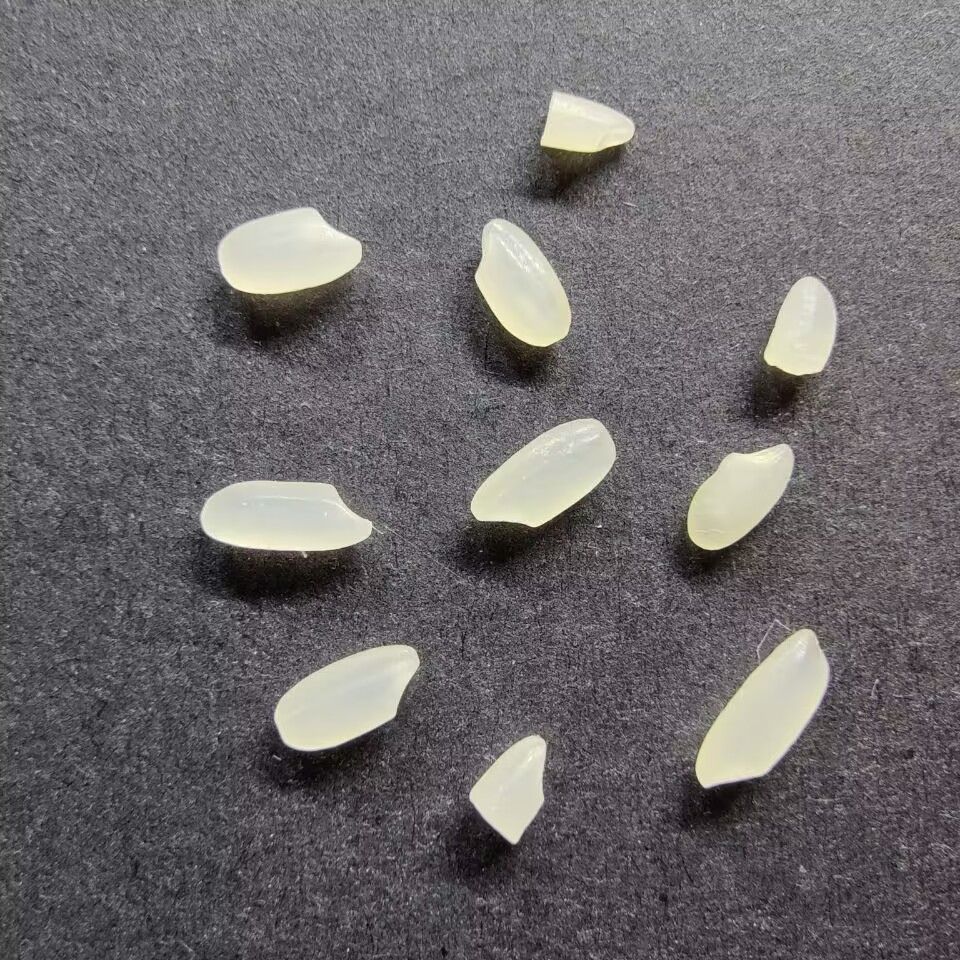broken: (465, 733, 549, 846), (761, 274, 839, 377), (537, 89, 636, 154)
rice: (693, 627, 831, 790), (468, 417, 618, 529), (272, 641, 421, 753), (472, 216, 573, 350), (216, 205, 363, 296), (199, 478, 373, 552), (686, 441, 795, 554)
